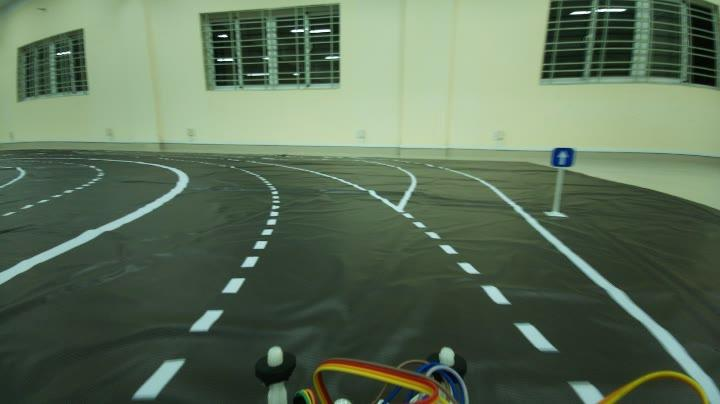onewayroad: (544, 140, 578, 178)
